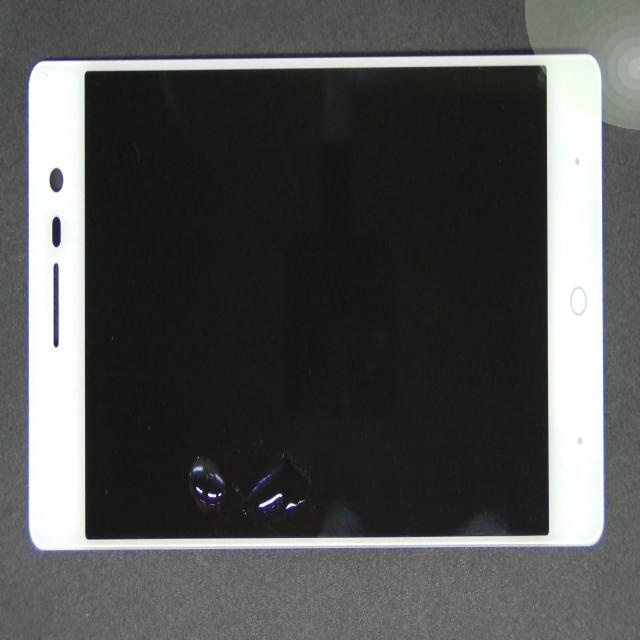oil: (120, 237, 368, 640), (89, 223, 268, 640)
